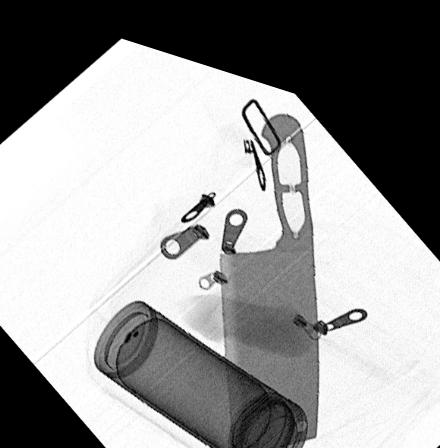Knife: (217, 91, 320, 440)
